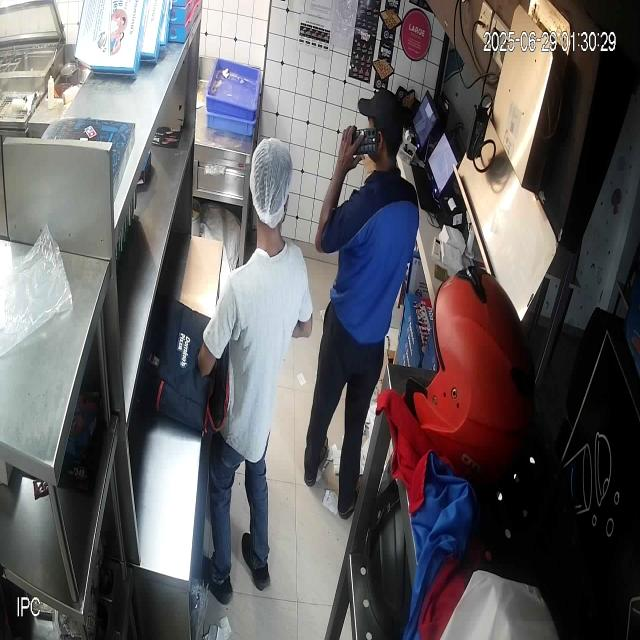helmet: (402, 259, 535, 501)
